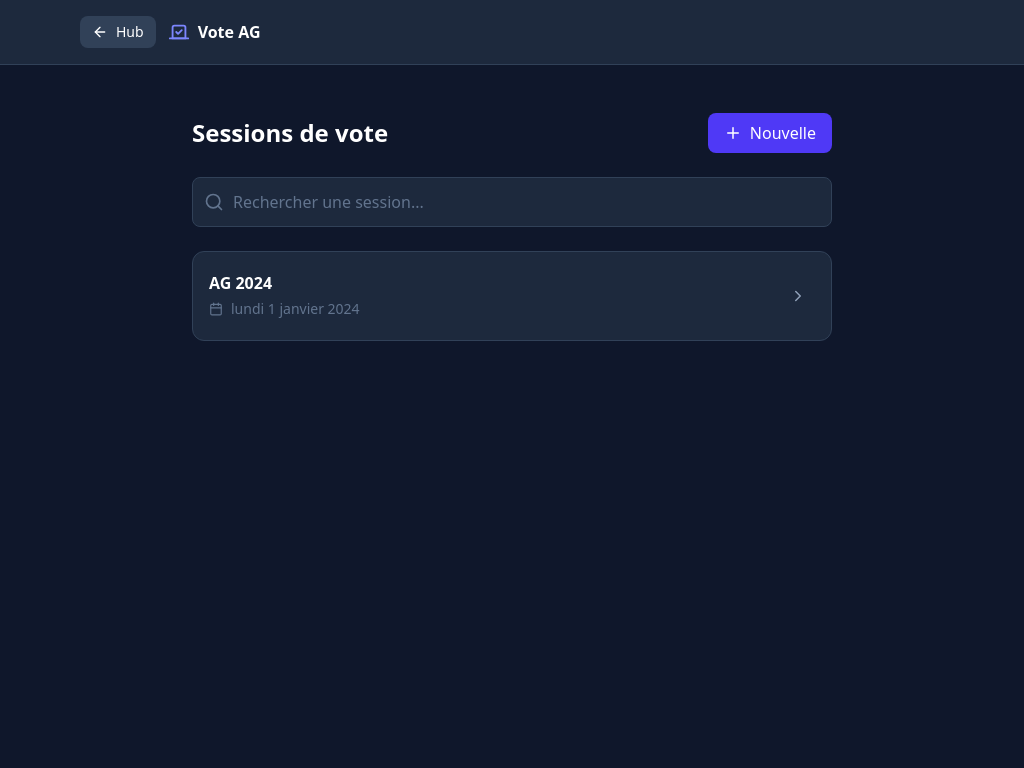
Test: VoteApp - Page d'accueil › affiche le formulaire de création
The image size is (1024, 768).
Click the button "Nouvelle" at (770, 133), box [708,113,832,153]
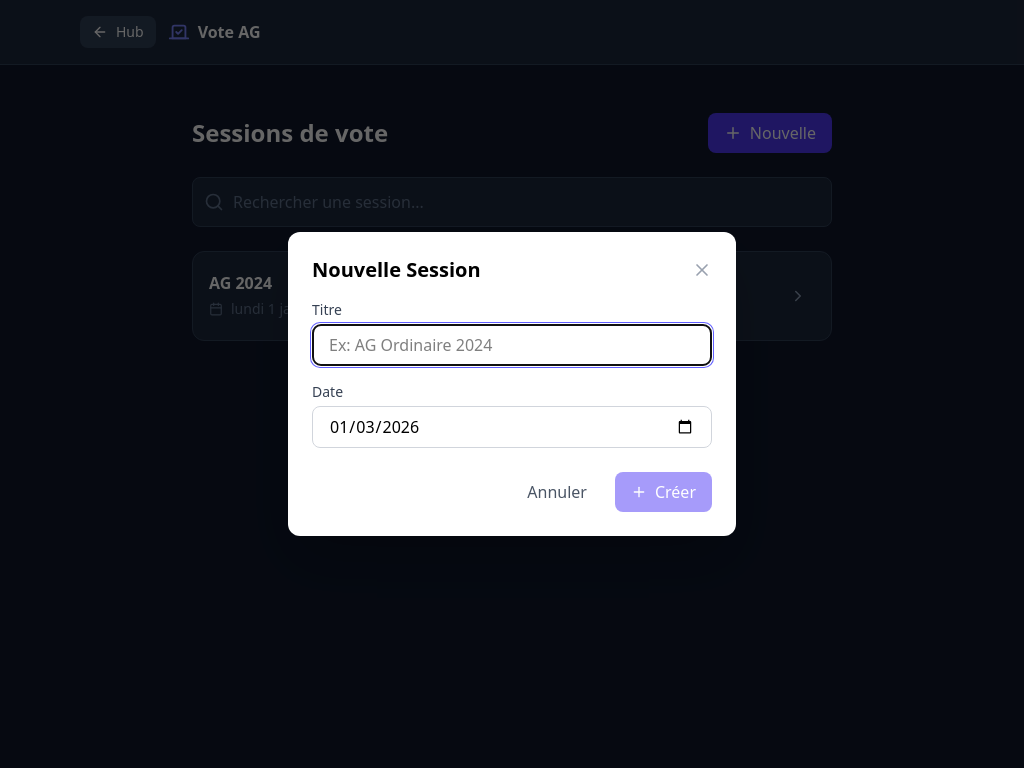
Expected: the heading "Nouvelle Session" is shown, [312,256,480,284]
